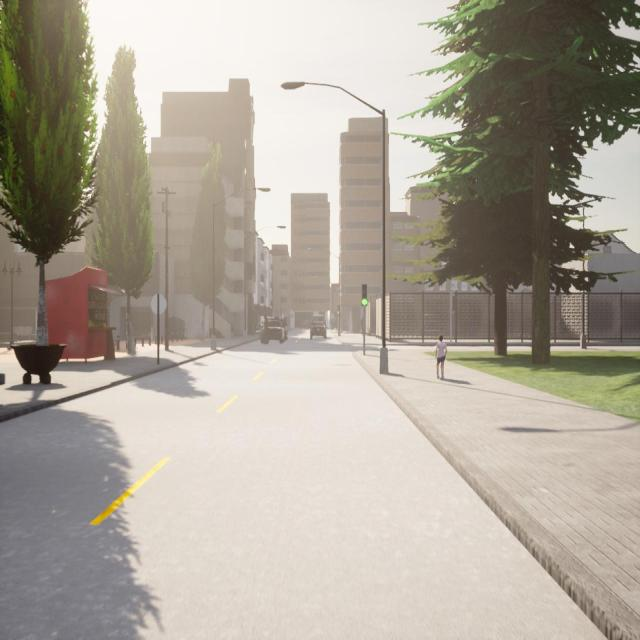Pedestrian: (435, 334, 447, 379)
Traffic_Signs: (150, 294, 168, 316)
Vehicle: (261, 319, 288, 344), (310, 315, 327, 340)
traffic_light: (362, 284, 368, 306), (337, 304, 340, 315)
